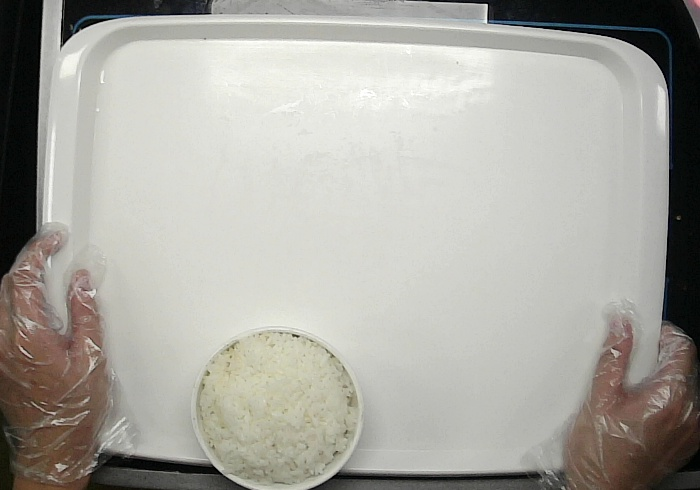HZYJPL-Fan_Wan: (189, 328, 364, 490)
